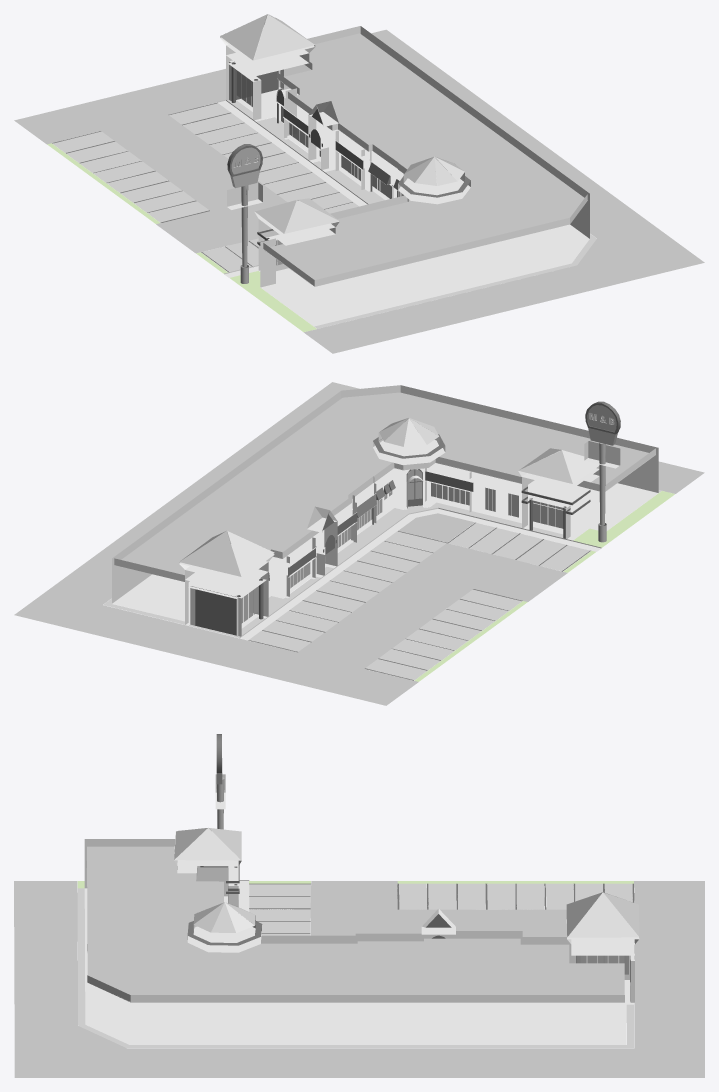
File: sp-prop-bigbox-1L-220ft.glb
The picture shows the model from 3 angles, top to bottom: view 1: azimuth 30°, elevation 25°; view 2: azimuth 150°, elevation 25°; view 3: azimuth 270°, elevation 25°; orthographic projection. The views are drawn at different scales.
Parts seen in each view (by area): view 1: 3DGeom-3, 3DGeom-2, 3DGeom-4, 3DGeom-1, 3DGeom-42, 3DGeom-45, 3DGeom-8; view 2: 3DGeom-3, 3DGeom-2, 3DGeom-4, 3DGeom-1, 3DGeom-8, 3DGeom-42, 3DGeom-45; view 3: 3DGeom-3, 3DGeom-2, 3DGeom-4, 3DGeom-1, 3DGeom-42, 3DGeom-8.
Boxes of the visible parts, box(x1,y1,x2,y2) form: 3DGeom-3: box(14, 14, 704, 353); 3DGeom-2: box(217, 26, 589, 326); 3DGeom-4: box(53, 14, 596, 328); 3DGeom-1: box(52, 61, 470, 272); 3DGeom-42: box(47, 143, 316, 332); 3DGeom-45: box(230, 147, 260, 283); 3DGeom-8: box(236, 70, 399, 265); 3DGeom-3: box(14, 382, 704, 705); 3DGeom-2: box(112, 385, 658, 640); 3DGeom-4: box(103, 418, 661, 679); 3DGeom-1: box(191, 401, 620, 680); 3DGeom-8: box(241, 469, 565, 623); 3DGeom-42: box(414, 491, 674, 681); 3DGeom-45: box(587, 405, 617, 542); 3DGeom-3: box(14, 828, 704, 1077); 3DGeom-2: box(84, 774, 639, 1044); 3DGeom-4: box(77, 828, 638, 1047); 3DGeom-1: box(187, 734, 634, 1001); 3DGeom-42: box(77, 881, 633, 888); 3DGeom-8: box(228, 868, 628, 974).
Bounding box in the file's own units: 46.33 × 15.97 × 66.99.
